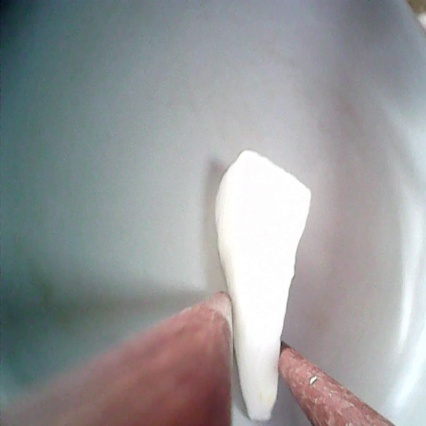white_chinese-yam: (207, 148, 318, 424)
